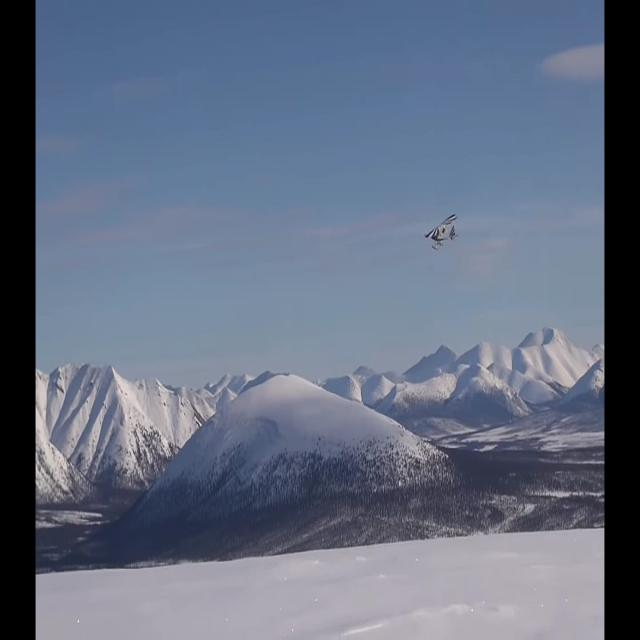iha: (424, 212, 460, 252)
